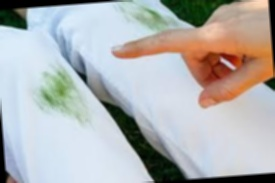earth: (39, 72, 72, 109), (138, 9, 166, 30)
